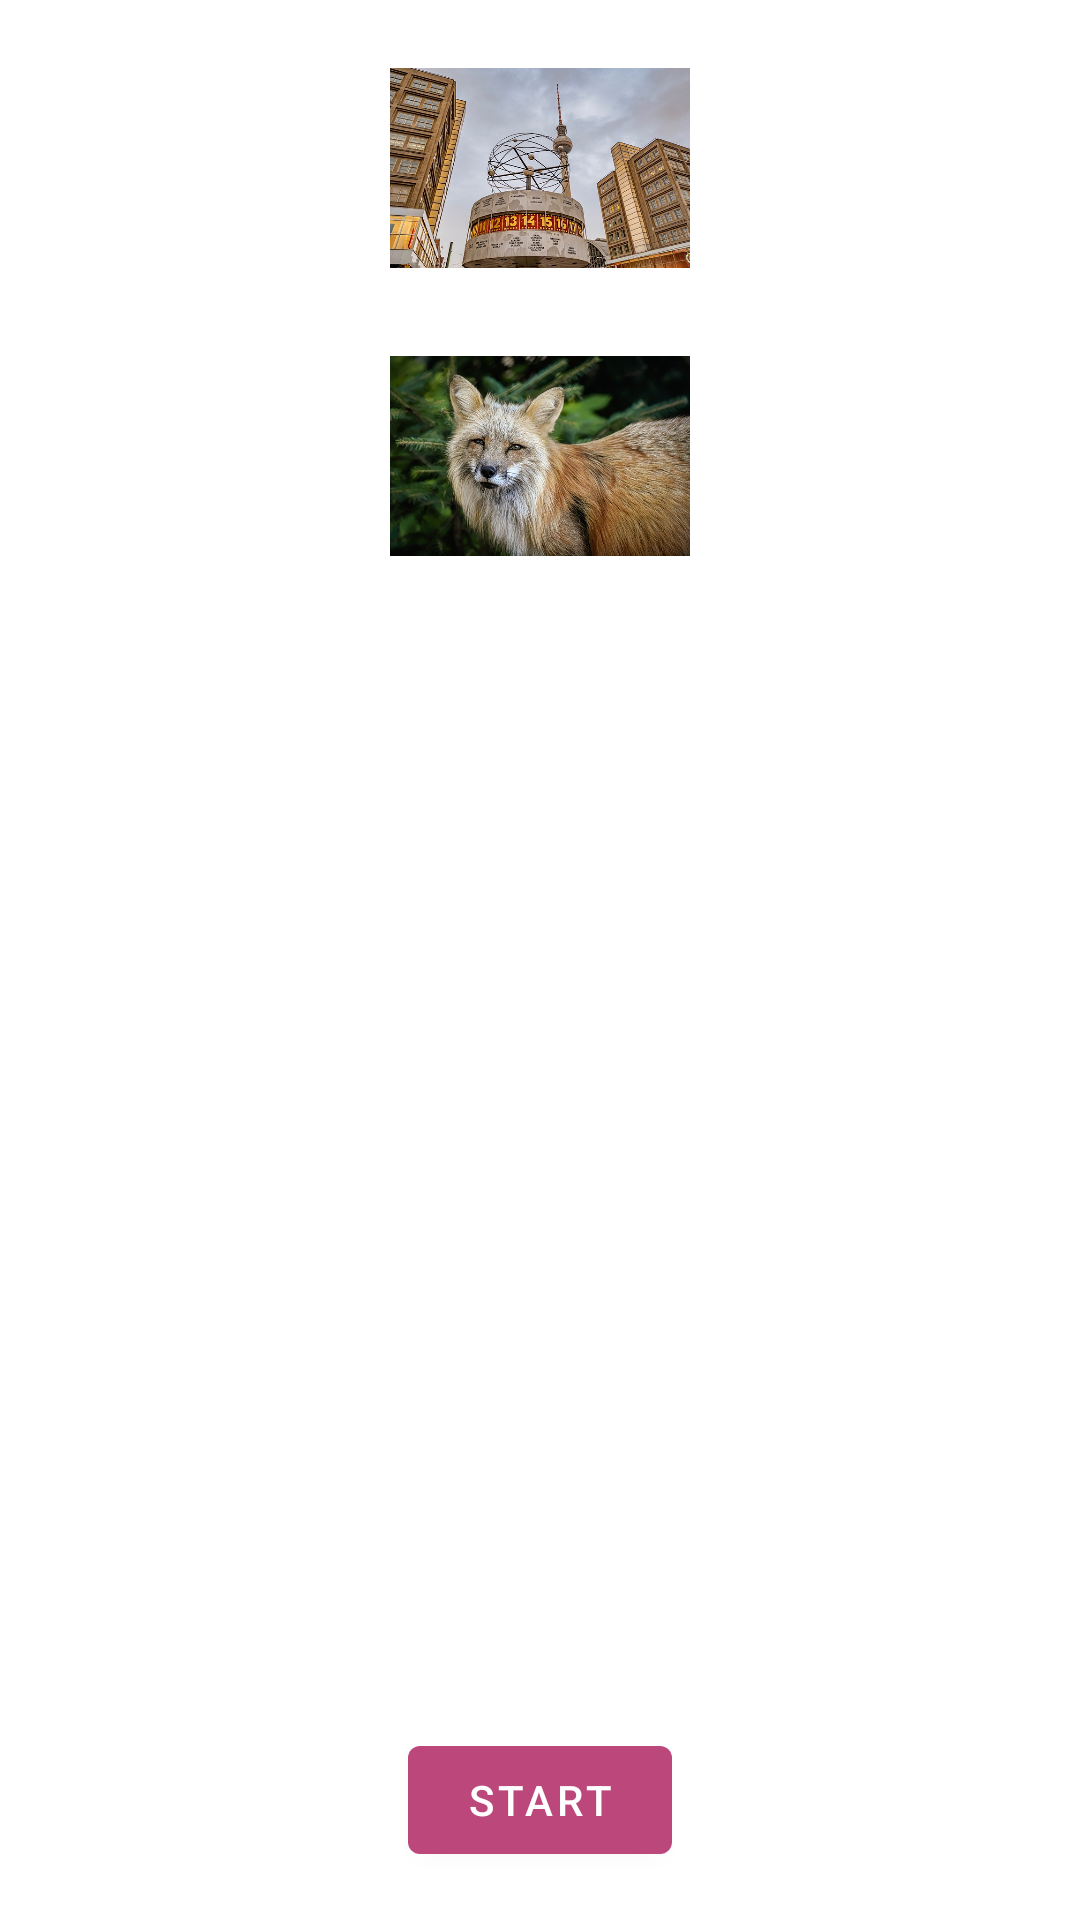

Icon bounding boxes for this 1080w x 1920h phone screenshot, format box=[x1, y1, x2, y2]:
city: box=[390, 68, 690, 268]
fox: box=[390, 356, 690, 556]
